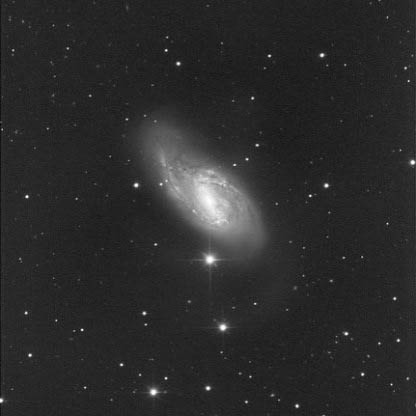Messier 66: (97, 100, 291, 281)
